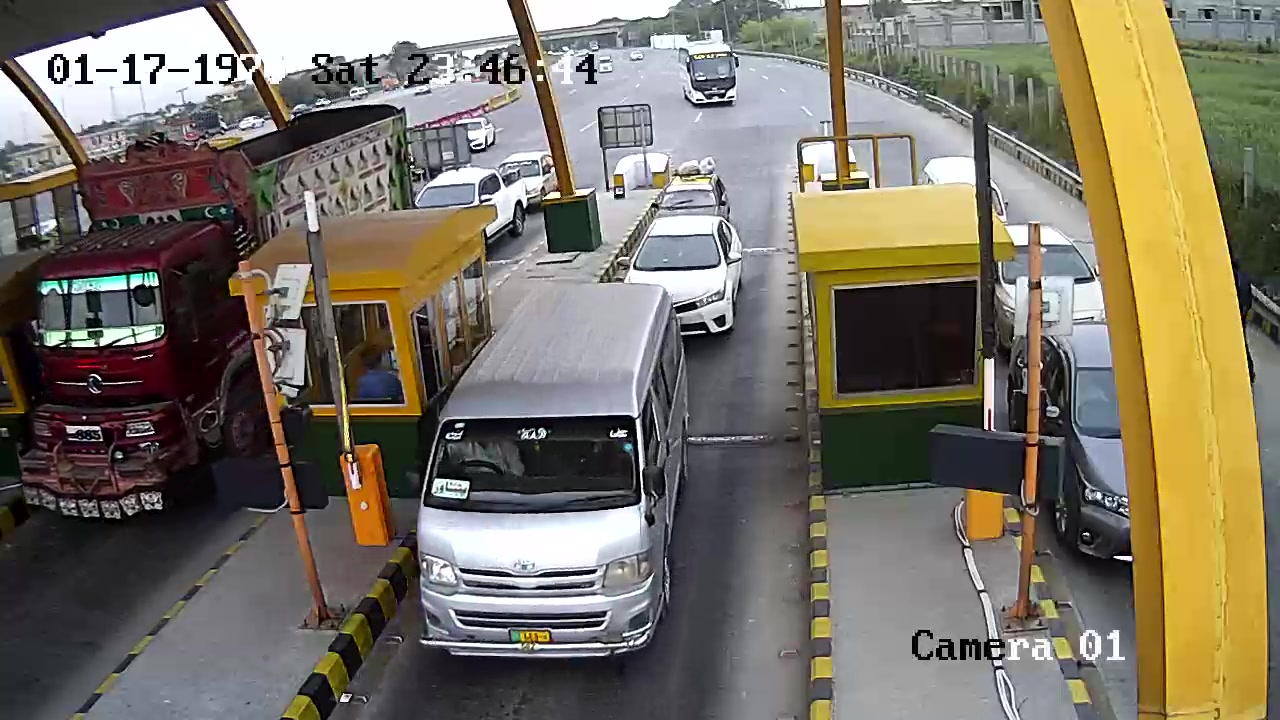F3: (405, 277, 698, 671)
